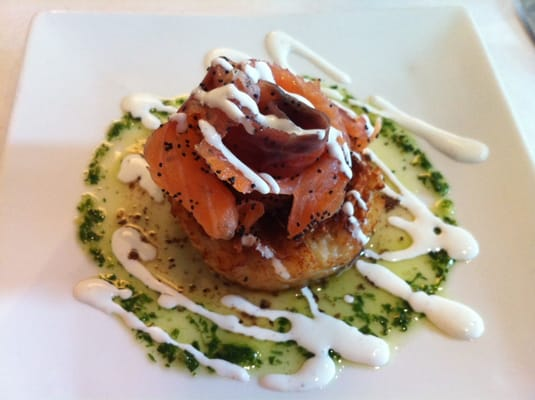curry: (374, 118, 461, 226)
